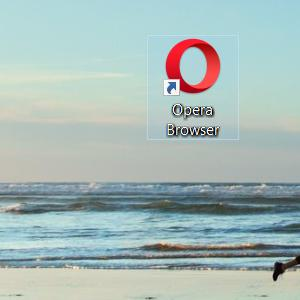opera: (163, 38, 221, 96)
